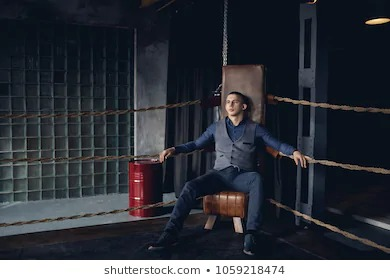F_dress pants: (158, 166, 265, 239)
